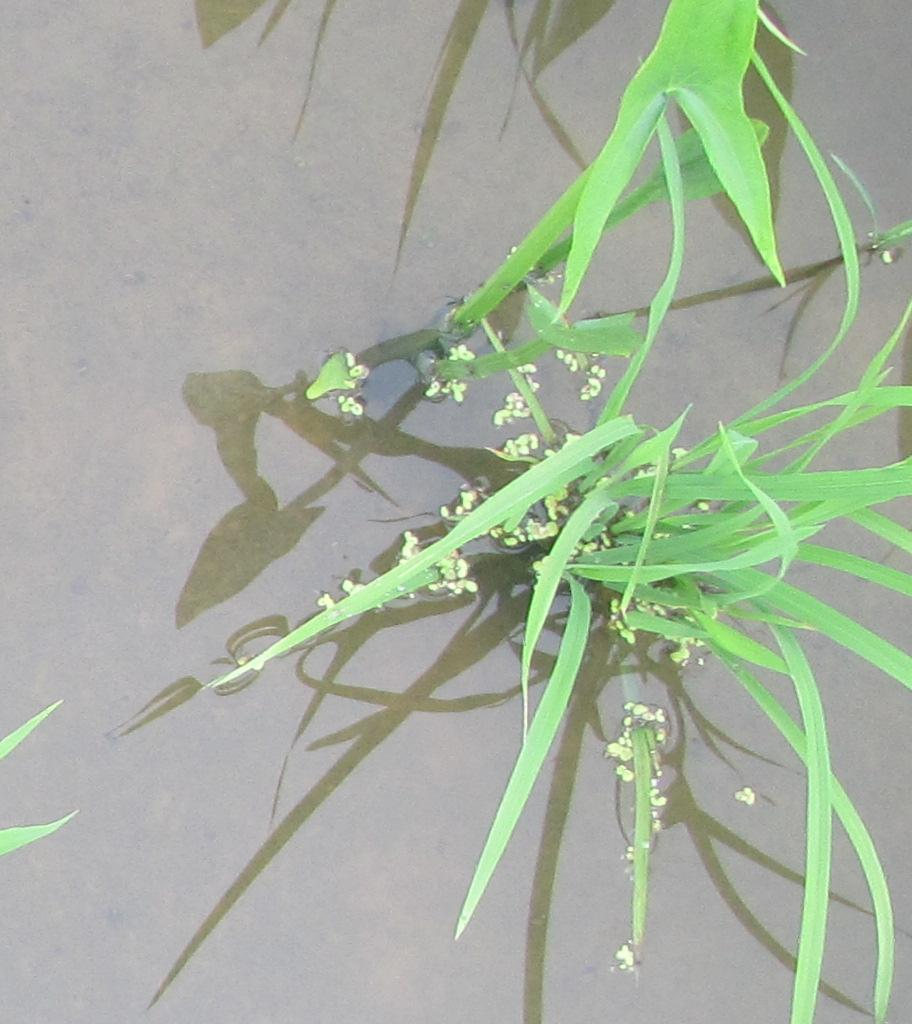Weed: (574, 1, 803, 294)
